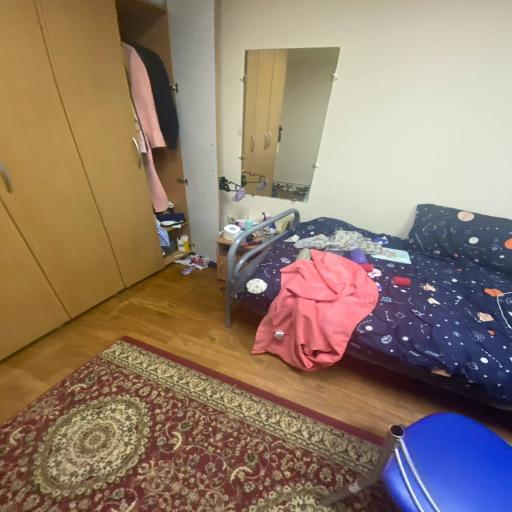bus: (322, 414, 511, 511)
car: (0, 0, 177, 358), (0, 0, 123, 316), (37, 0, 163, 285)
person: (227, 205, 511, 407)
